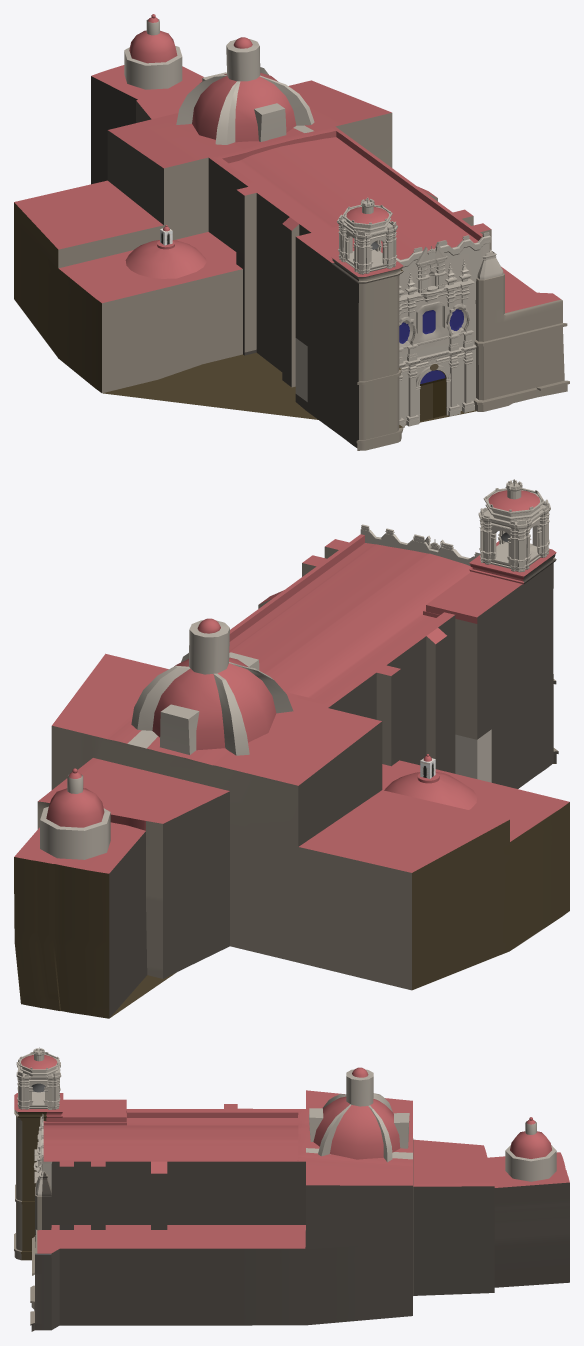
The model's file is San_Francisco_ColorSolido_FBX.fbx.
3 renders of one model, top to bottom at view 1: azimuth 30°, elevation 25°; view 2: azimuth 150°, elevation 25°; view 3: azimuth 270°, elevation 25°, orthographic. The views are drawn at different scales.
Parts seen in each view (by area): view 1: Iglesia, cupula_Pricipal, Detalles, campanario1, pSphere5, cupula1; view 2: Iglesia, cupula_Pricipal, campanario1, pSphere5, cupula1; view 3: Iglesia, cupula_Pricipal, campanario1, pSphere5.
Part boxes in pixels (box(x1,y1,x2,y2)): Iglesia: box(14, 65, 569, 450); cupula_Pricipal: box(176, 37, 314, 144); Detalles: box(399, 243, 476, 427); campanario1: box(337, 197, 397, 274); pSphere5: box(124, 14, 182, 89); cupula1: box(125, 225, 206, 278); Iglesia: box(14, 524, 569, 1018); cupula_Pricipal: box(131, 618, 293, 755); campanario1: box(478, 479, 550, 572); pSphere5: box(40, 768, 110, 859); cupula1: box(384, 754, 477, 809); Iglesia: box(14, 1090, 569, 1331); cupula_Pricipal: box(309, 1067, 409, 1162); campanario1: box(16, 1047, 61, 1109); pSphere5: box(505, 1117, 556, 1181).
Size of the model in its own units: 24.04 by 15.95 by 38.43.
12 materials, 1 textured.
